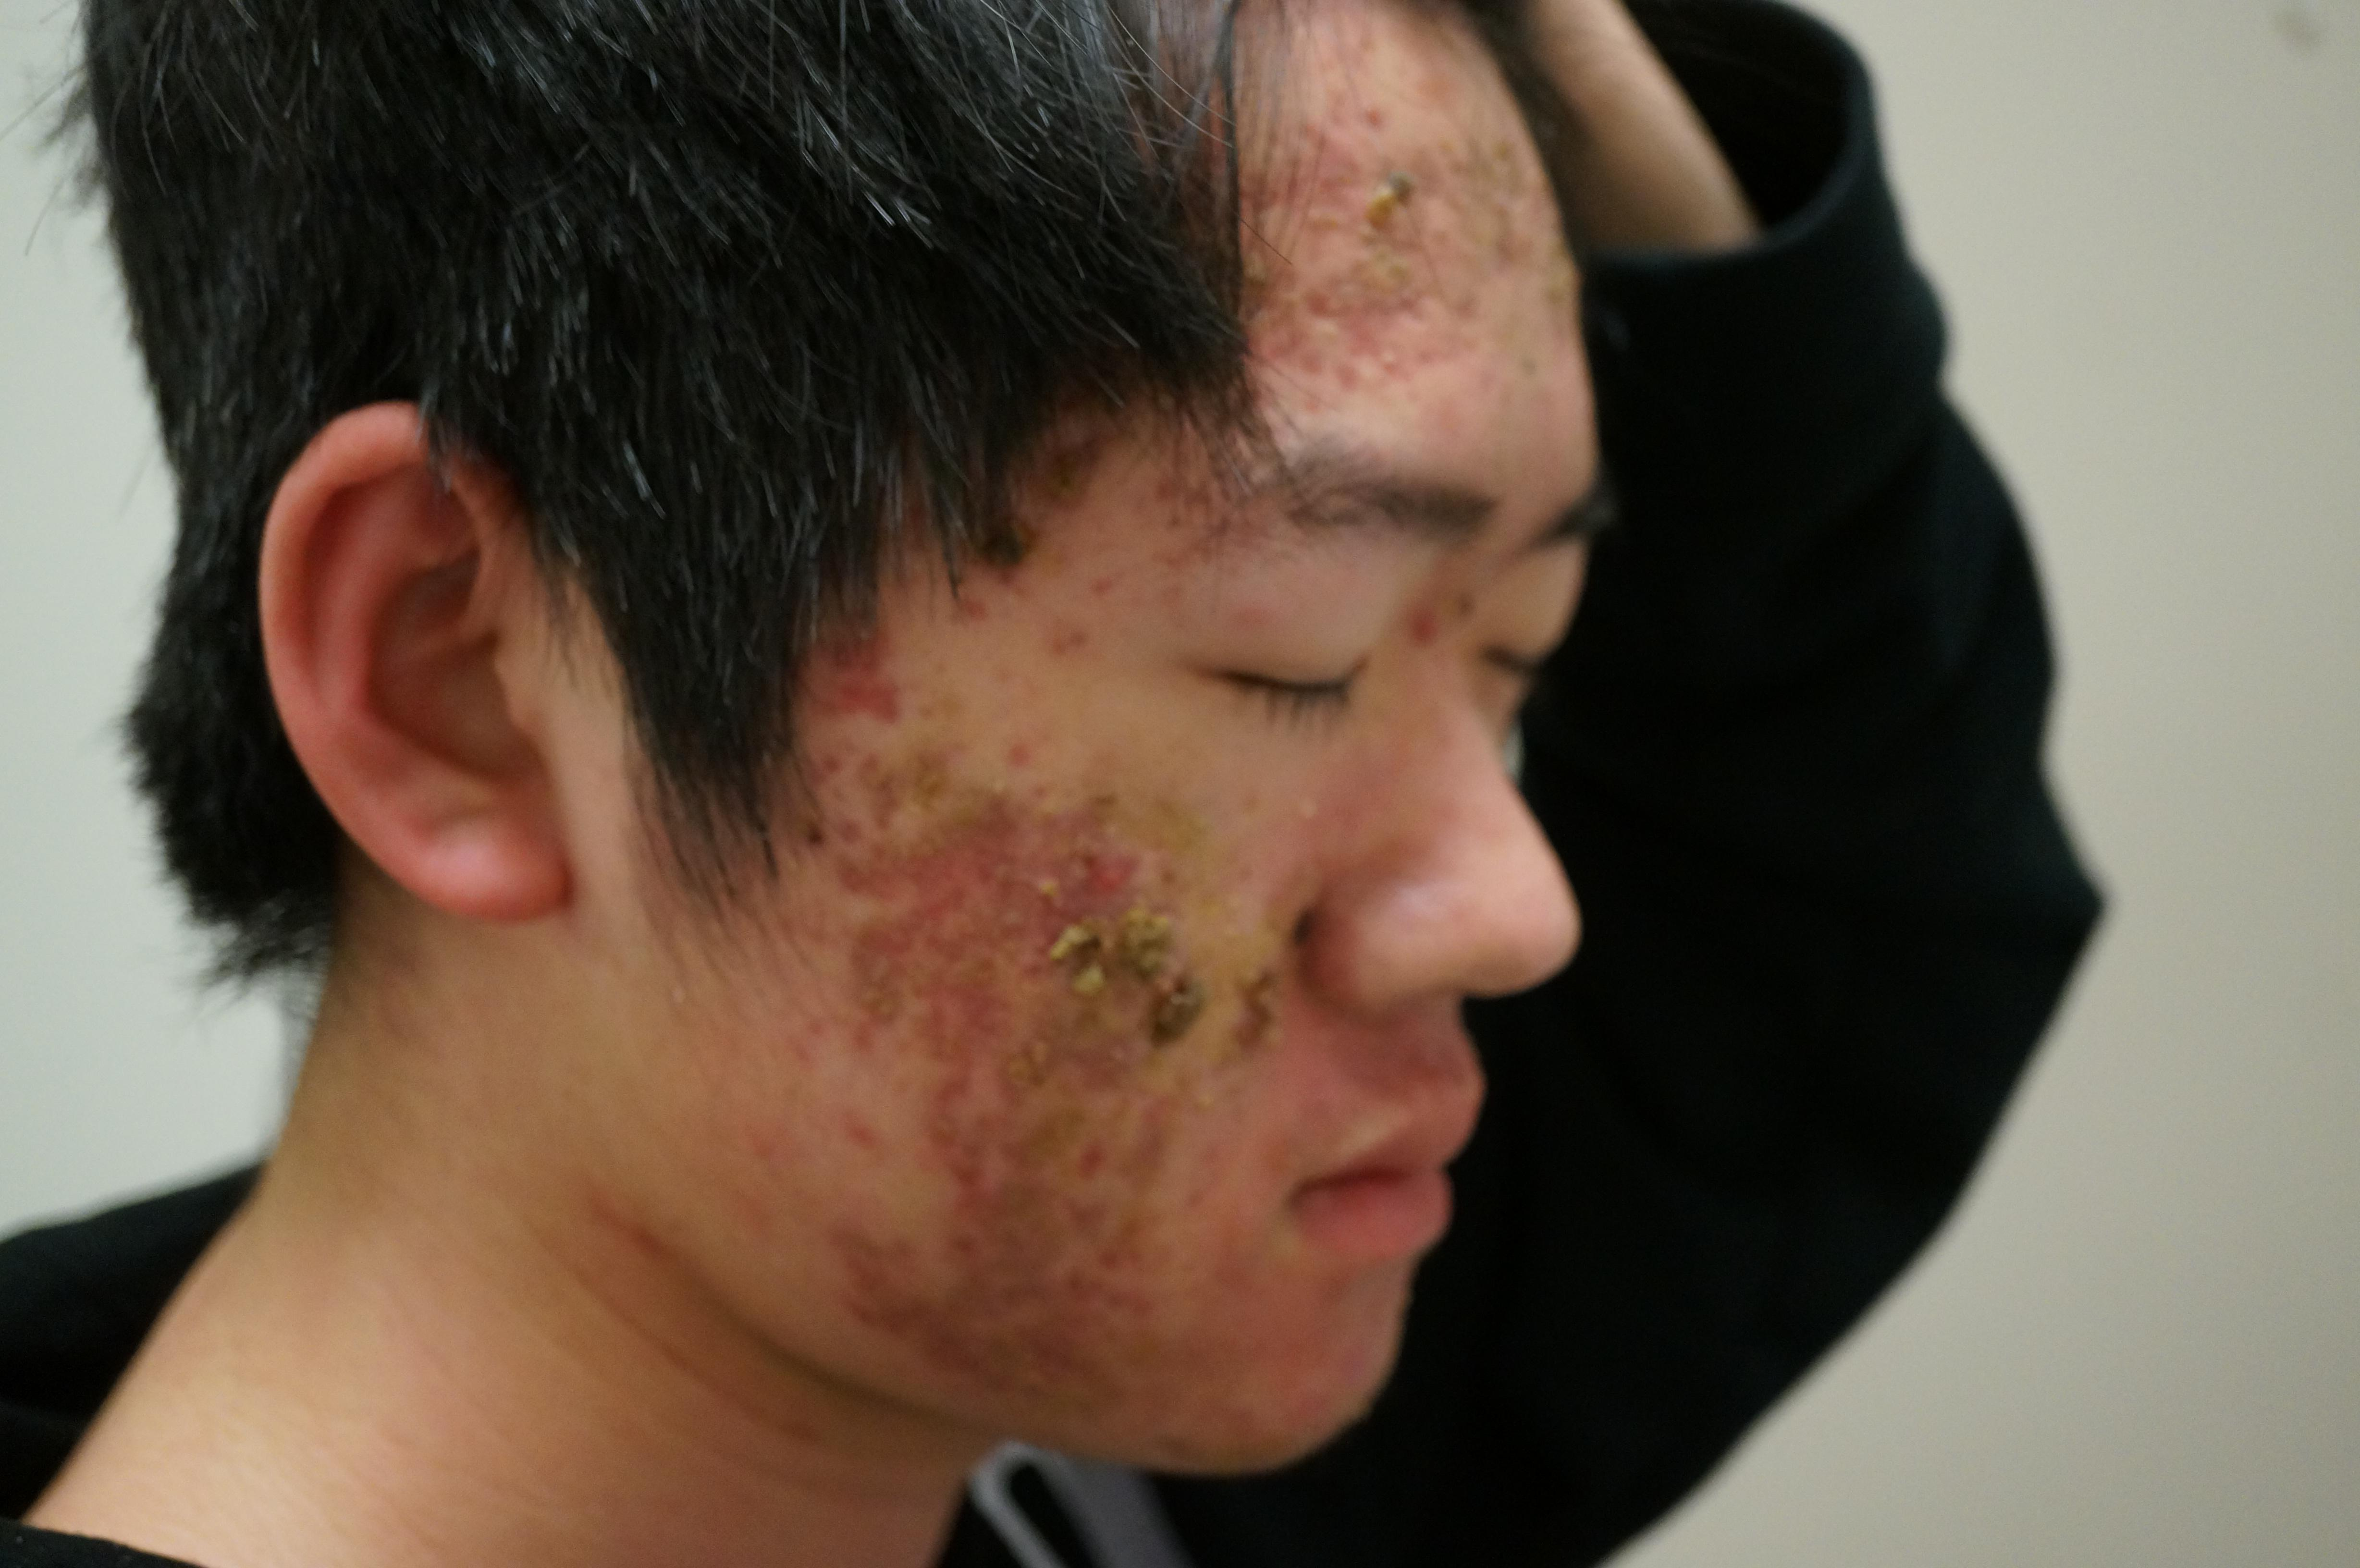fore: (959, 800, 1067, 903), (1118, 877, 1212, 961), (1300, 278, 1384, 366), (876, 901, 978, 973), (894, 677, 997, 745), (801, 633, 894, 709), (1025, 430, 1118, 506), (1125, 936, 1209, 1011), (1006, 1024, 1097, 1092), (1216, 945, 1293, 1024), (1009, 905, 1081, 989), (1473, 194, 1538, 285), (838, 1085, 901, 1172), (813, 808, 885, 884), (1365, 170, 1433, 247), (1085, 1213, 1169, 1274), (1459, 126, 1536, 192), (829, 1220, 873, 1335), (964, 509, 1034, 579), (917, 996, 978, 1074), (1368, 261, 1456, 315), (1153, 460, 1223, 527), (1270, 891, 1335, 962), (992, 1111, 1062, 1174), (880, 833, 953, 891), (1209, 506, 1277, 567), (852, 740, 908, 814), (799, 728, 861, 794), (1305, 359, 1384, 409), (1239, 243, 1298, 310), (934, 1216, 1001, 1274), (1216, 586, 1291, 637), (908, 737, 953, 819), (1414, 58, 1470, 119), (1069, 777, 1144, 821), (583, 1171, 633, 1235), (1041, 616, 1100, 670), (1436, 581, 1491, 639), (625, 1209, 677, 1269), (1407, 334, 1466, 385), (997, 723, 1050, 779), (742, 1113, 792, 1171), (869, 1248, 929, 1295), (1076, 929, 1106, 1024), (938, 1143, 994, 1192), (1354, 91, 1403, 145), (850, 983, 911, 1025), (1396, 597, 1442, 653), (1079, 565, 1139, 607), (1284, 779, 1340, 822), (1512, 339, 1555, 394), (840, 1022, 887, 1069), (945, 577, 988, 628), (1069, 1136, 1113, 1186), (920, 1104, 969, 1148), (838, 917, 866, 992), (1277, 145, 1344, 170), (1165, 1041, 1193, 1069)
